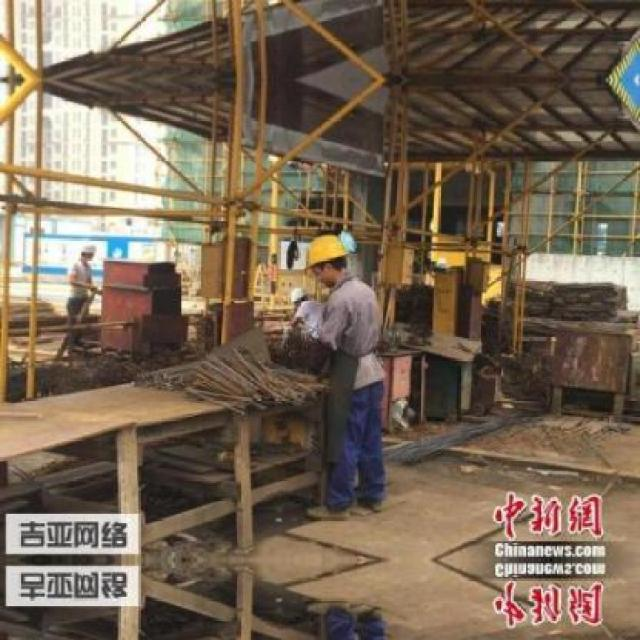helmet: (300, 228, 355, 292)
